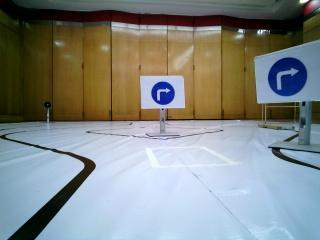right: (256, 58, 320, 101), (142, 75, 182, 108)
